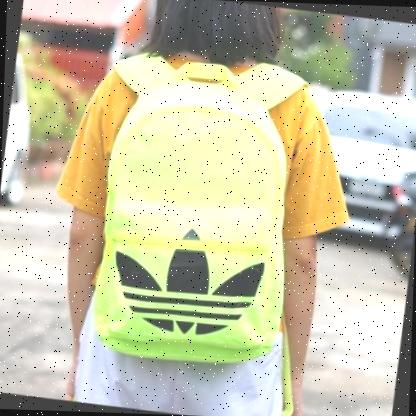person: (91, 41, 313, 374)
